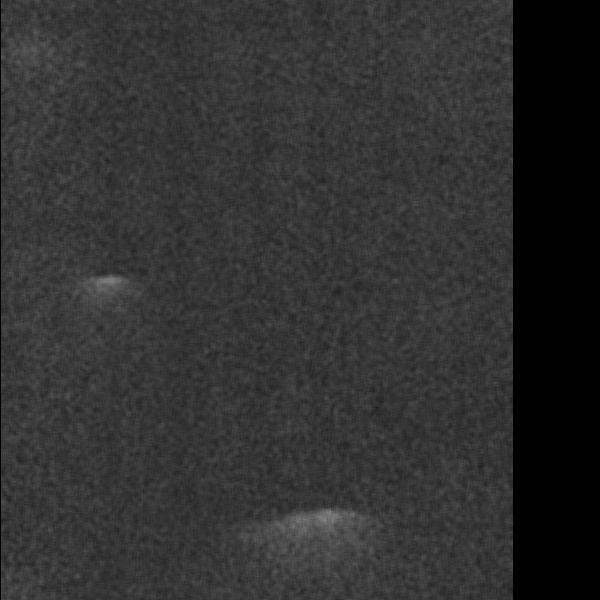spark: (478, 210, 513, 274), (118, 533, 162, 575)
